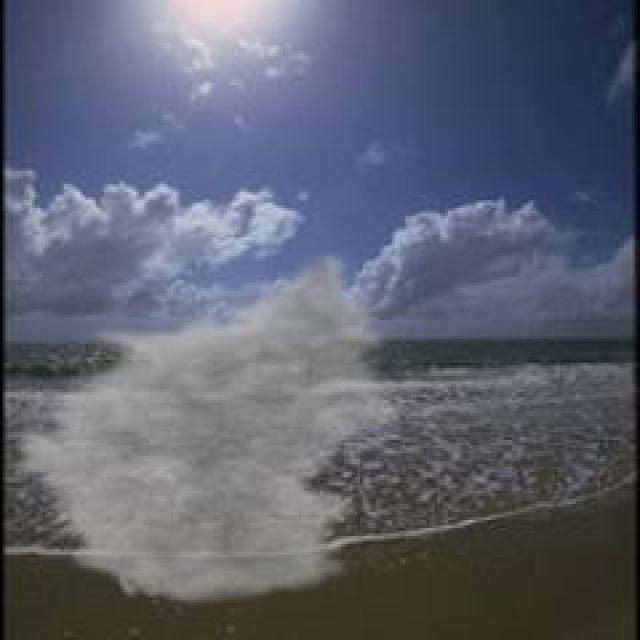Smoke: (22, 257, 407, 602)
